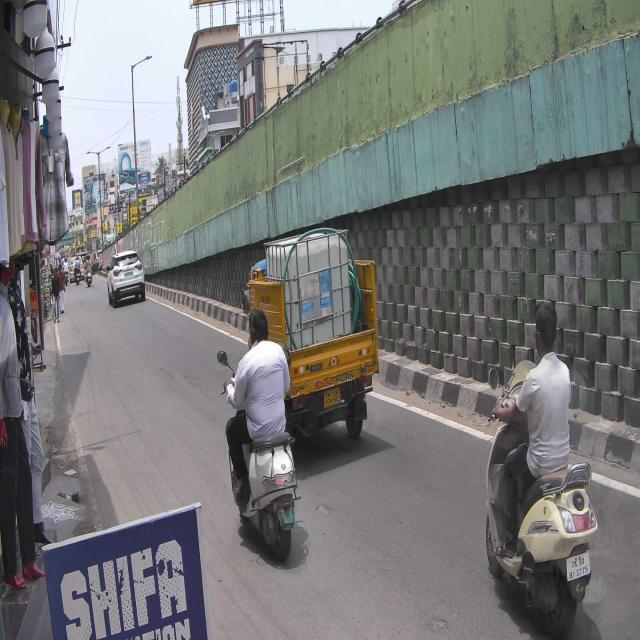single_rider: (485, 295, 597, 640), (218, 307, 302, 560)
